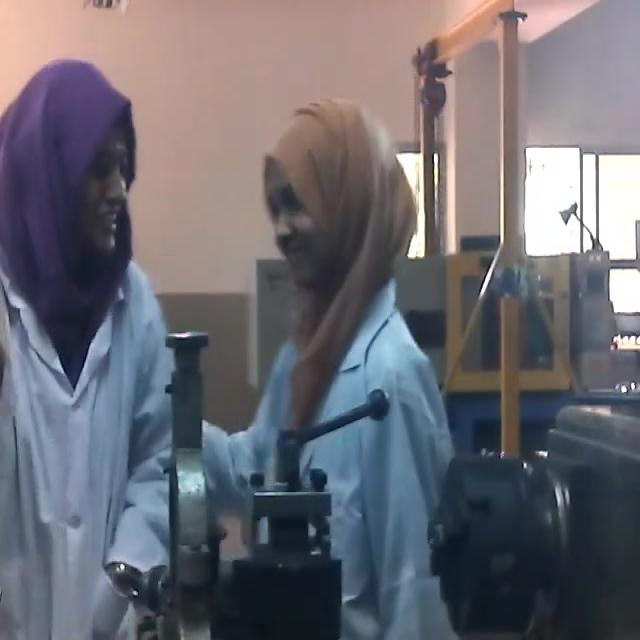labcoat: (203, 273, 457, 640), (1, 260, 175, 640)
